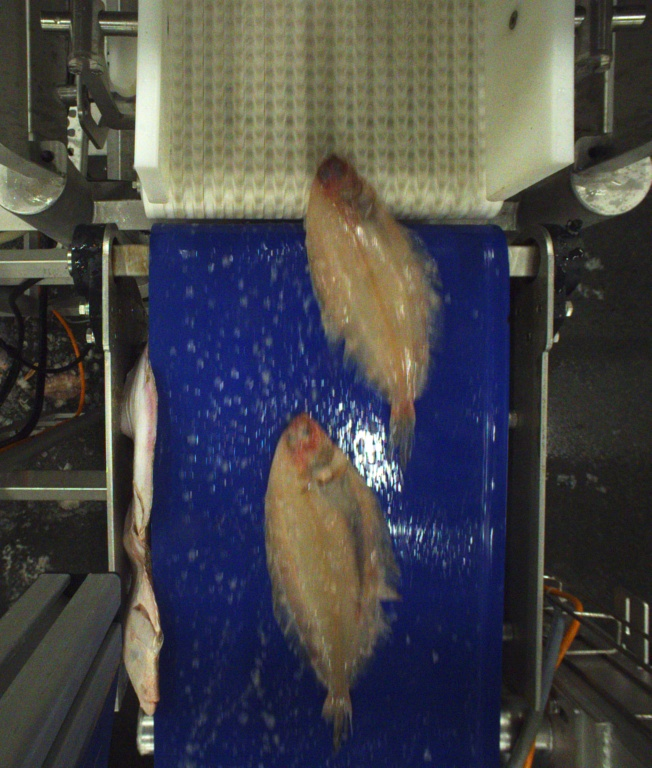WIT: (304, 154, 439, 468)
